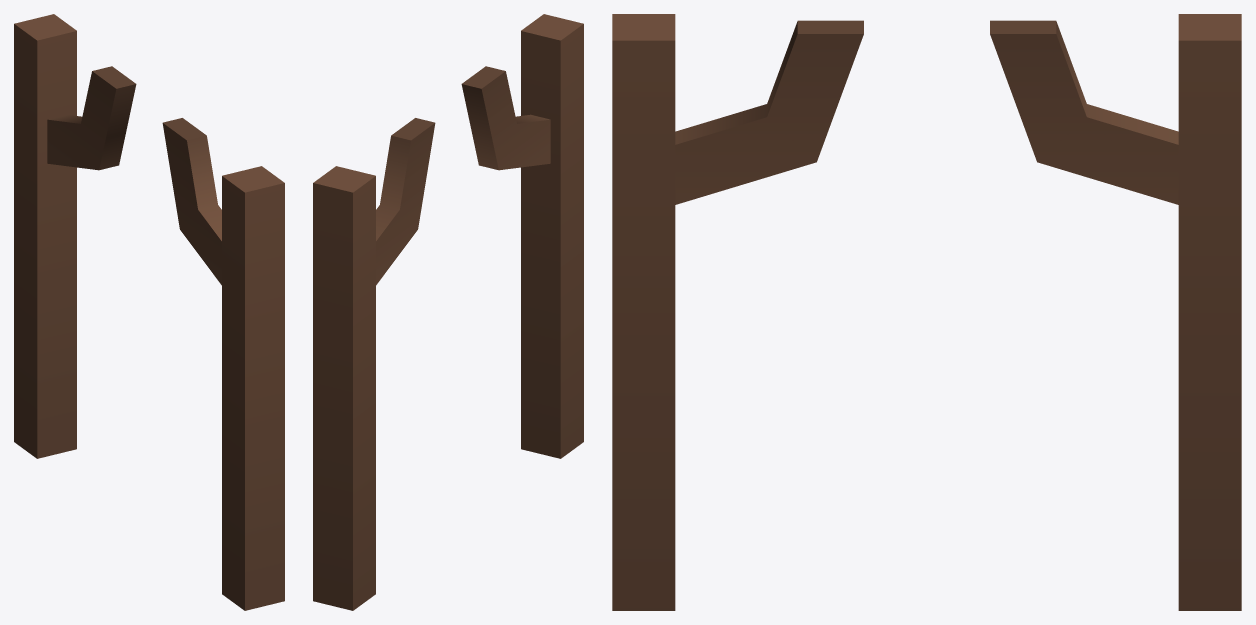
Rendered from balcony-wall.glb.
3 views of the same model, side by side, from view 1: azimuth 30°, elevation 25°; view 2: azimuth 150°, elevation 25°; view 3: azimuth 270°, elevation 25° (orthographic). The views are drawn at different scales.
Parts seen in each view (by area): view 1: balcony-wall; view 2: balcony-wall; view 3: balcony-wall.
Part boxes in pixels (left/top/right/bottom): balcony-wall: left=14, top=14, right=284, bottom=610; balcony-wall: left=313, top=14, right=583, bottom=610; balcony-wall: left=612, top=14, right=1241, bottom=610.
Bounding box in the file's own units: 0.1 × 1 × 1.
1 material, 1 textured.
